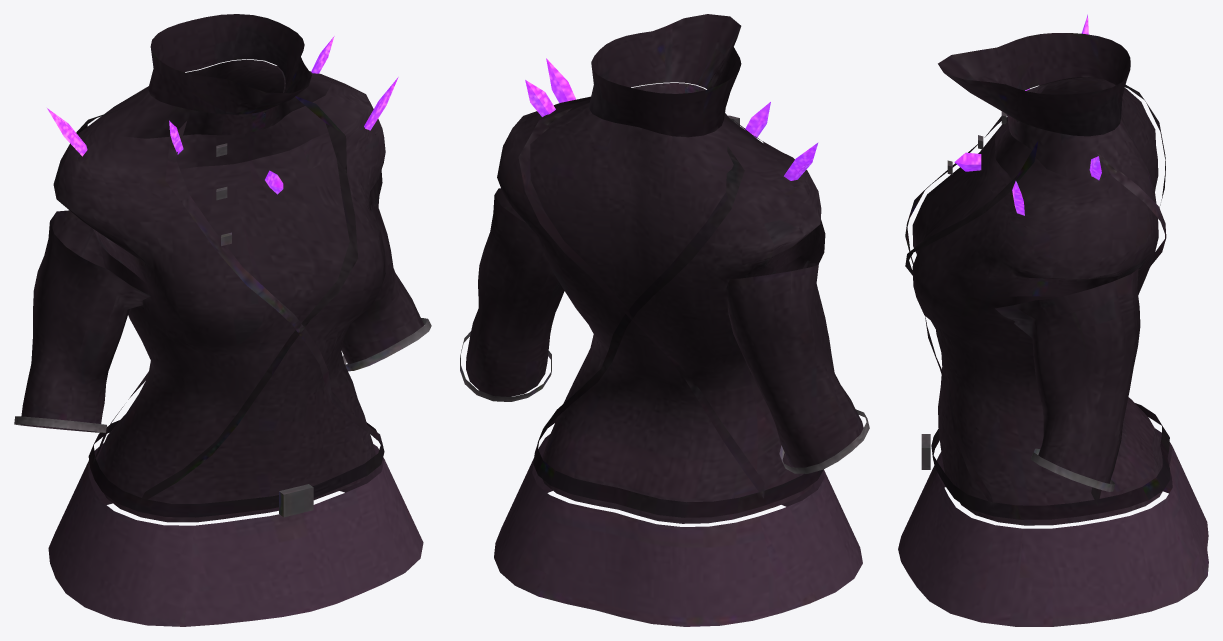
File: Peitoral_de_Couro_nivel50.glb
3 renders of one model, left to right at view 1: azimuth 30°, elevation 25°; view 2: azimuth 150°, elevation 25°; view 3: azimuth 270°, elevation 25°, orthographic. The views are drawn at different scales.
Visible parts, largest first — view 1: peitoral_de_couro_nivel50; view 2: peitoral_de_couro_nivel50; view 3: peitoral_de_couro_nivel50.
Boxes of the visible parts, bbox=[...] form: peitoral_de_couro_nivel50: bbox=[14, 14, 431, 626]; peitoral_de_couro_nivel50: bbox=[460, 14, 869, 626]; peitoral_de_couro_nivel50: bbox=[898, 14, 1208, 626].
Bounding box in the file's own units: 0.6005 × 0.7076 × 0.41.
1 material, 1 textured.
